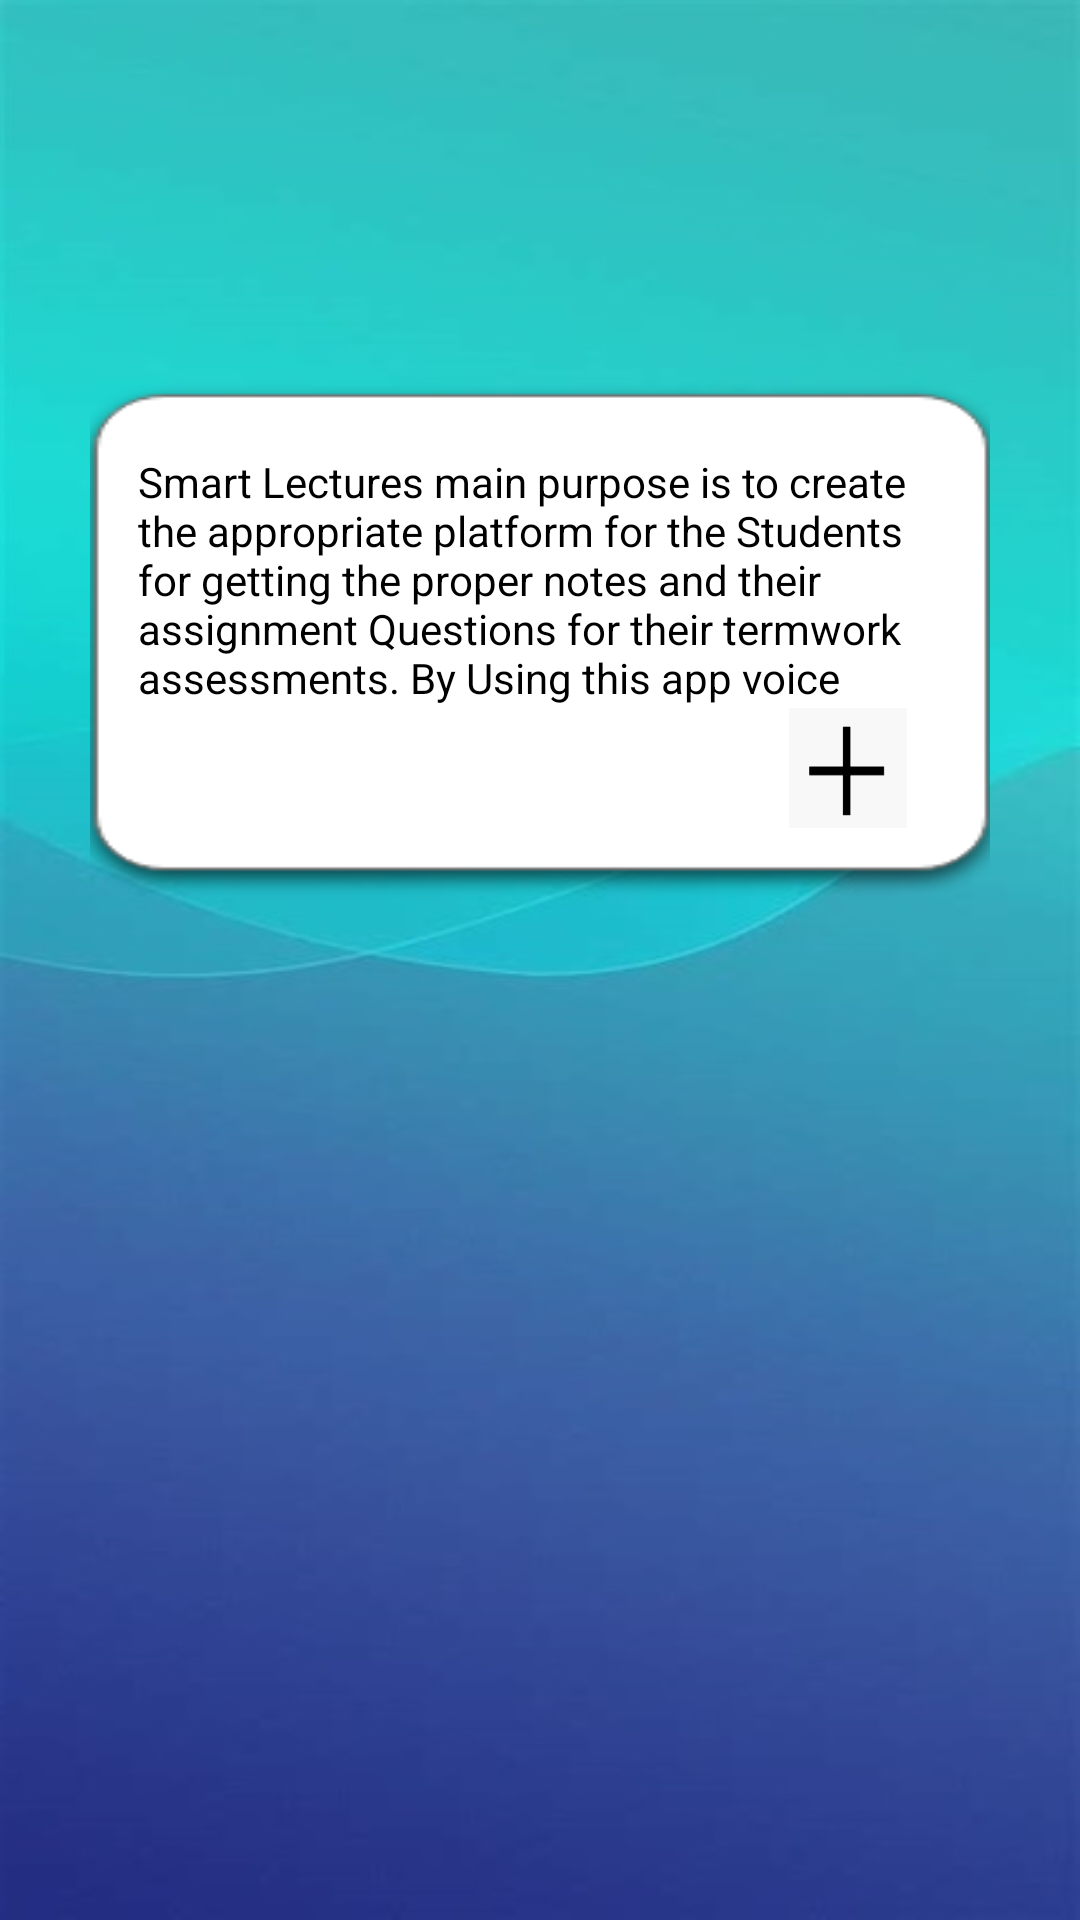

Named icons in this screenshot (1080*1920) and their centers, (x,y):
plus: (847,771)
